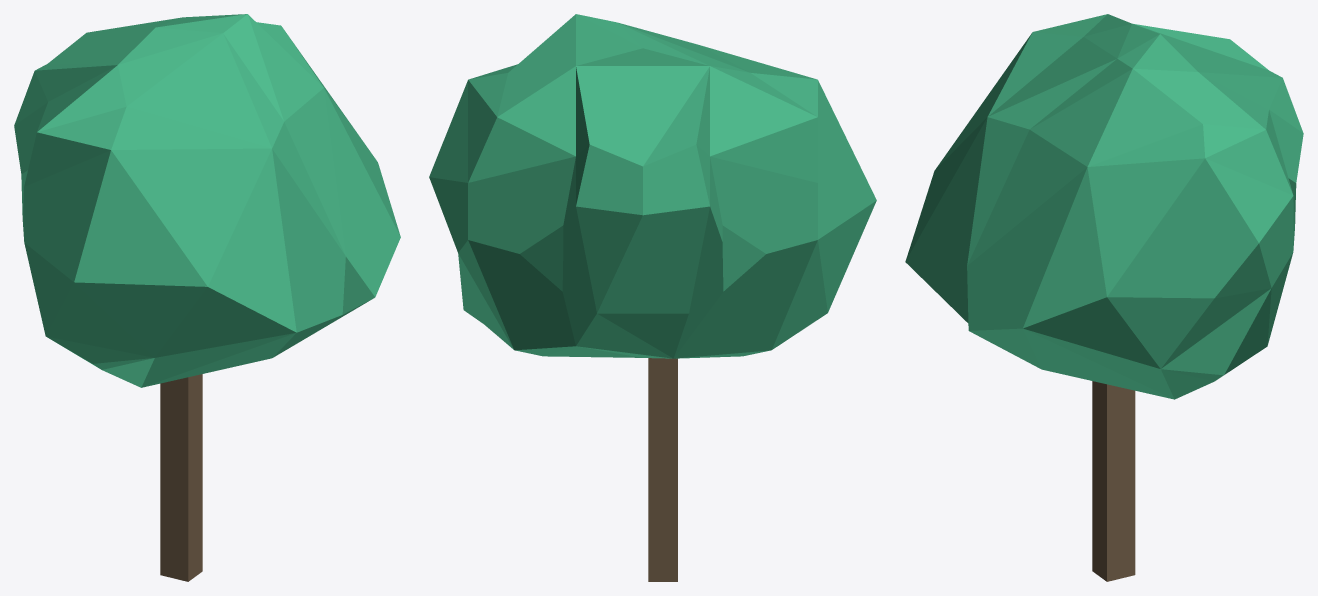
Rendered from tree3.fbx.
3 renders of one model, left to right at view 1: azimuth 30°, elevation 25°; view 2: azimuth 150°, elevation 25°; view 3: azimuth 270°, elevation 25°, orthographic. The views are drawn at different scales.
Visible parts, largest first — view 1: Box019; view 2: Box019; view 3: Box019.
Boxes of the visible parts, left/top/right/bottom form: Box019: left=14, top=14, right=400, bottom=581; Box019: left=429, top=14, right=876, bottom=581; Box019: left=905, top=14, right=1303, bottom=581.
Bounding box in the file's own units: 18.22 × 26.51 × 17.67.
